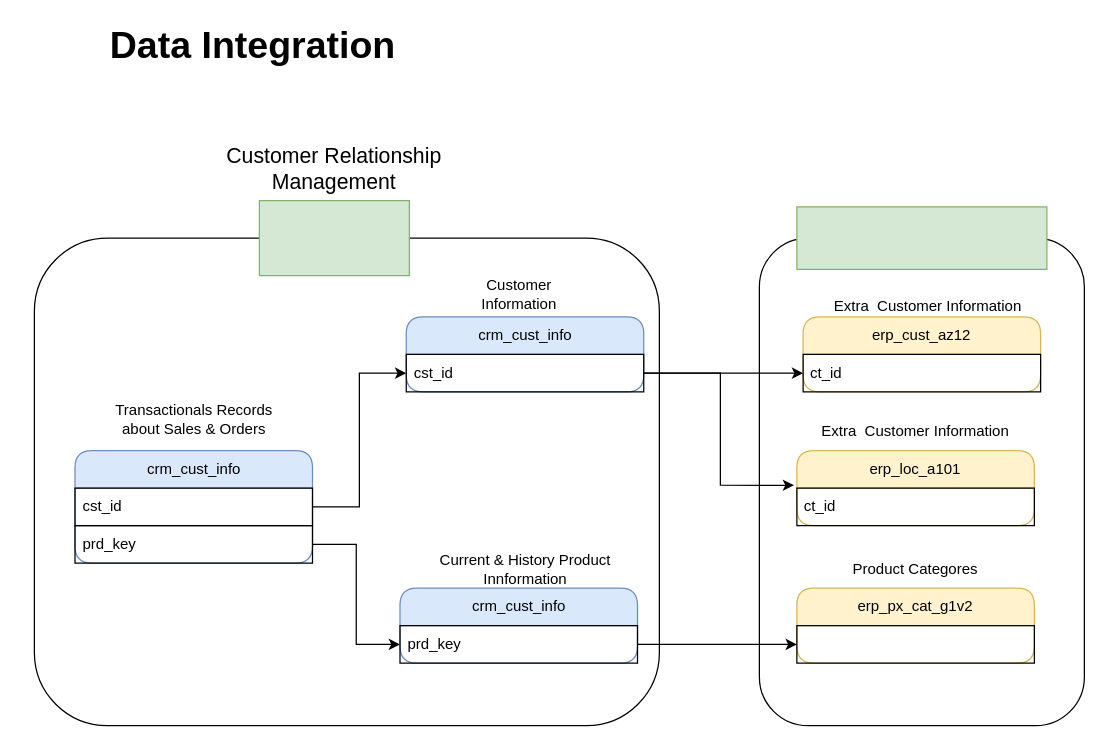
Image size: 1106x748. Some labels were removed from this diagram. Here are the shapes that lost their labels. From the top down, the centre of each, then its label:
At point (333, 237): "CRM".
At point (921, 237): "Enterprise Resource Planning".
At point (915, 643): "id".
